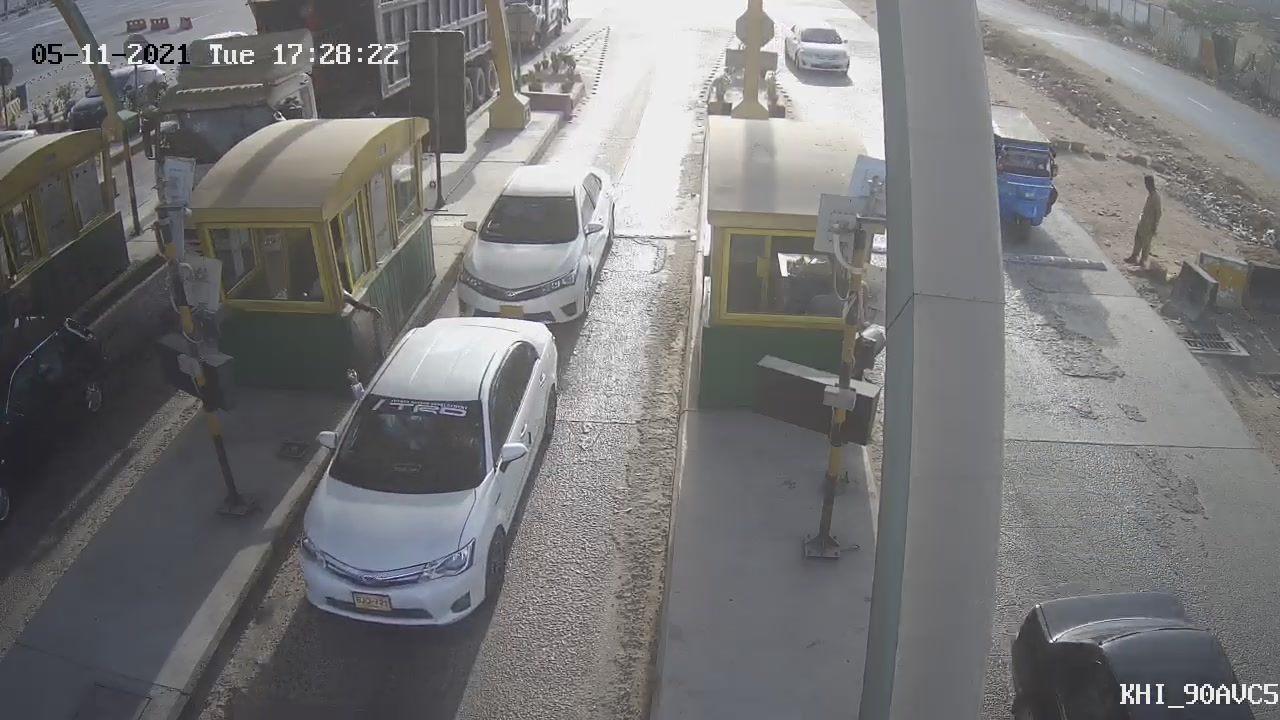F1: (277, 296, 574, 648), (438, 143, 630, 346)
